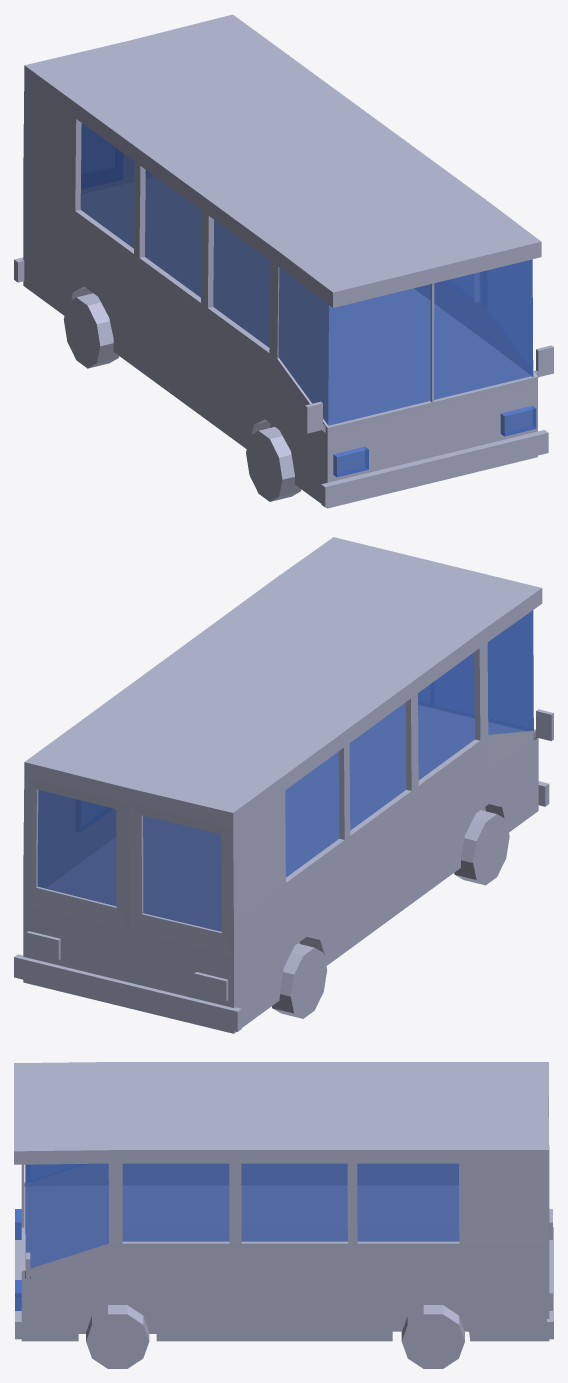
Rendered from BusPlayer.glb.
3 renders of one model, top to bottom at view 1: azimuth 30°, elevation 25°; view 2: azimuth 150°, elevation 25°; view 3: azimuth 270°, elevation 25°, orthographic. The views are drawn at different scales.
Visible parts, largest first — view 1: Bus.004; view 2: Bus.004; view 3: Bus.004.
Boxes of the visible parts, bbox=[...] form: Bus.004: bbox=[14, 14, 553, 508]; Bus.004: bbox=[14, 537, 553, 1033]; Bus.004: bbox=[14, 1062, 553, 1368].
Bounding box in the file's own units: 0.8802 × 0.8468 × 1.93.
